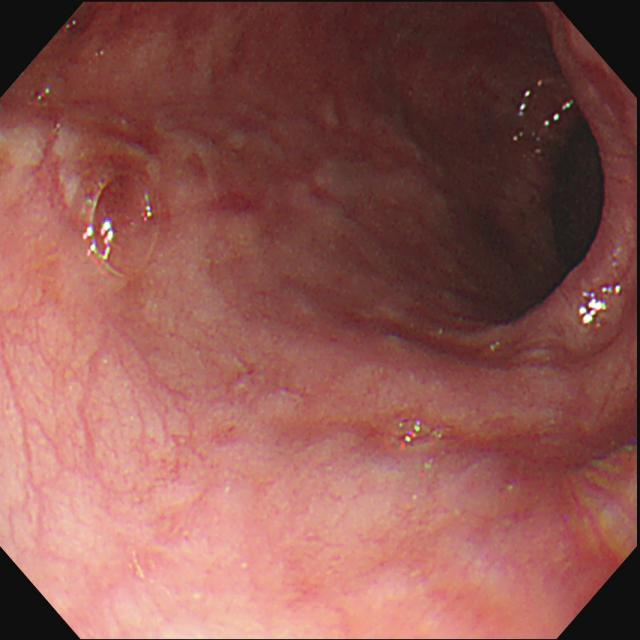A: (164, 116, 338, 257)
E: (488, 83, 628, 307)
T: (84, 168, 167, 284), (385, 418, 447, 454)
U: (577, 282, 627, 326), (540, 98, 579, 130), (519, 82, 545, 122)
